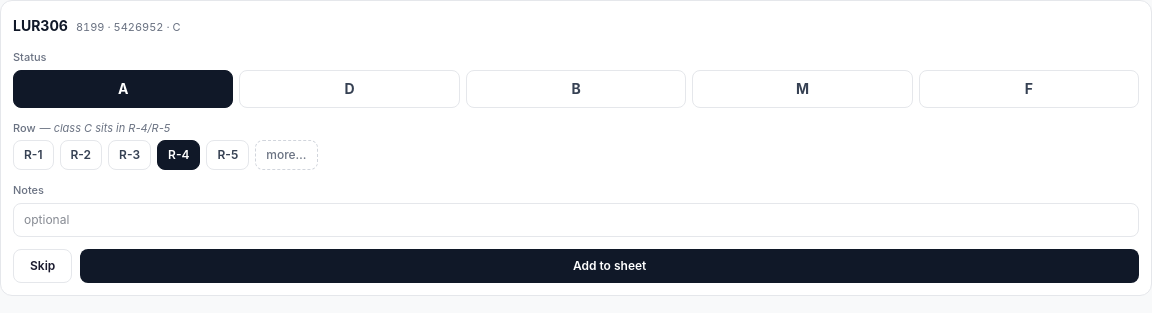
Scenario: ClosingInventoryCard › ⭐ "more…" reveals the overflow rows, which are hidden until asked for
The image size is (1152, 313).
Expected: the button "R-9" is not shown
Click the button "more…". click: (286,155)
box: [255,140,318,170]
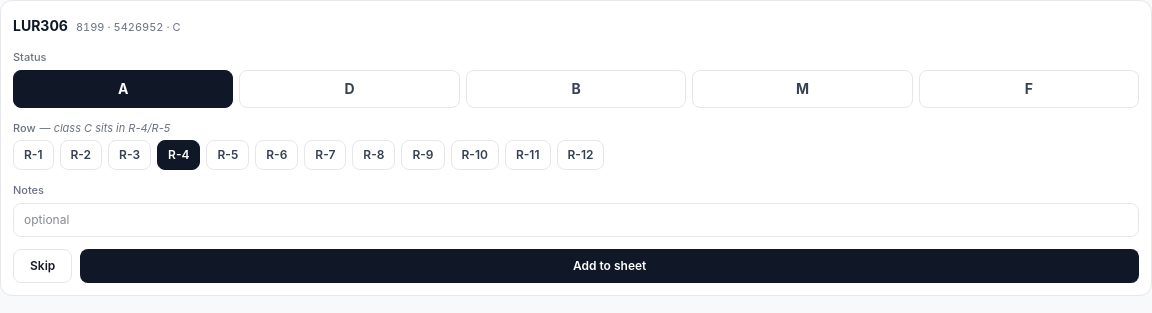
Expected: the button "R-9" is shown, [401,140,444,170]
